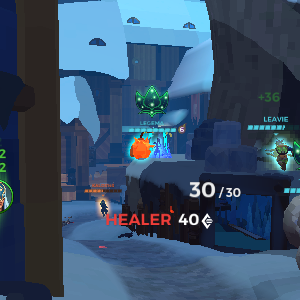model: (98, 198, 112, 221)
